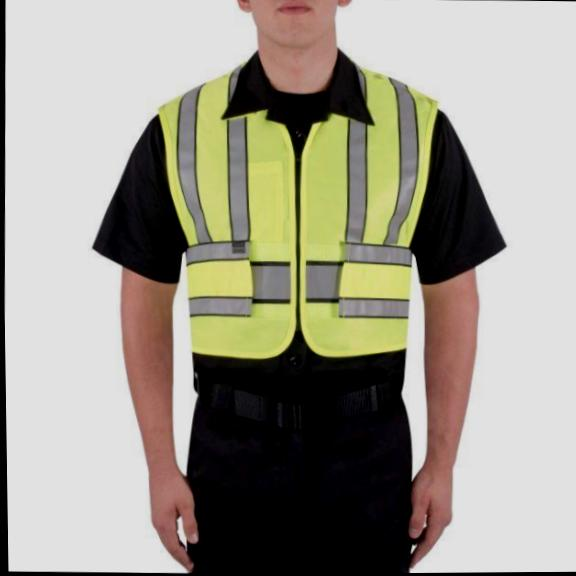safety_vest: (152, 60, 446, 370)
